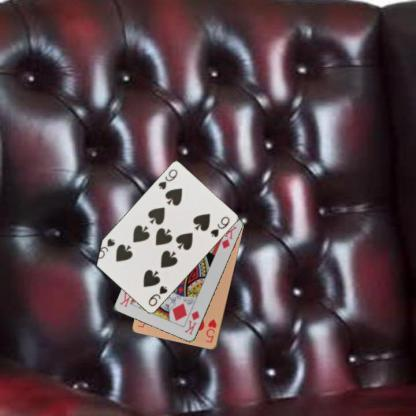5h: (203, 316, 218, 344)
9s: (156, 166, 178, 192), (146, 283, 168, 308)
Kd: (182, 308, 201, 336)
